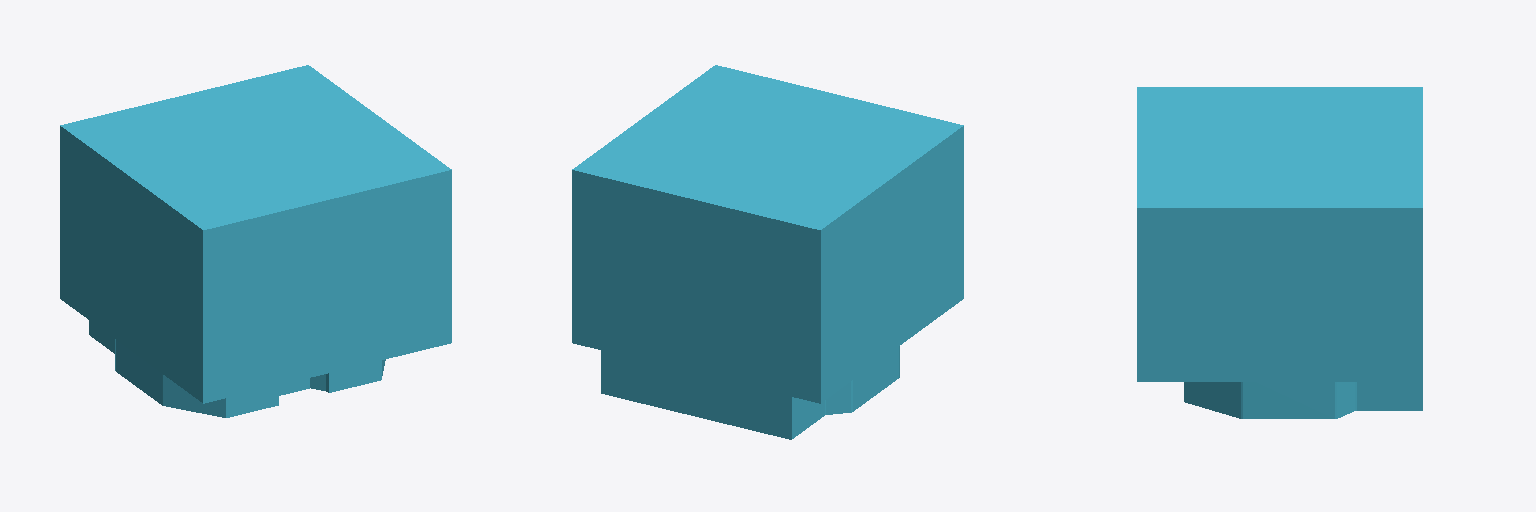
The model's file is ElevatorCart-LM.obj.
The picture shows the model from 3 angles: view 1: azimuth 30°, elevation 25°; view 2: azimuth 150°, elevation 25°; view 3: azimuth 270°, elevation 25°; orthographic projection.
Parts seen in each view (by area): view 1: Box008; view 2: Box008; view 3: Box008.
Boxes of the visible parts, box(x1,y1,x2,y2) form: Box008: box(60, 65, 451, 417); Box008: box(572, 65, 963, 439); Box008: box(1137, 87, 1422, 418).
Bounding box in the file's own units: 118 × 98.43 × 118.